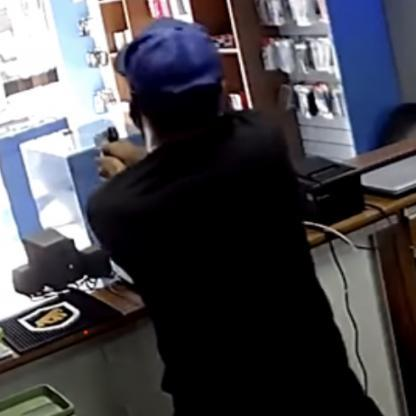weapon: (92, 125, 120, 178)
